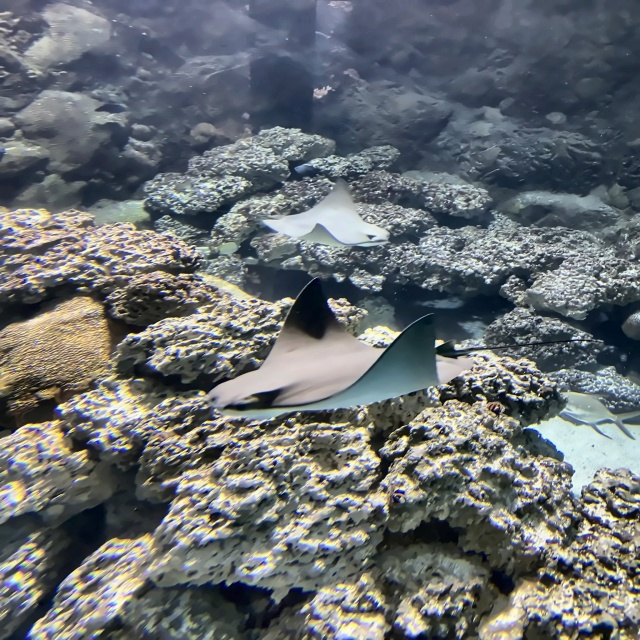fish: (546, 390, 639, 441)
stingray: (190, 272, 474, 422), (263, 174, 398, 254)
